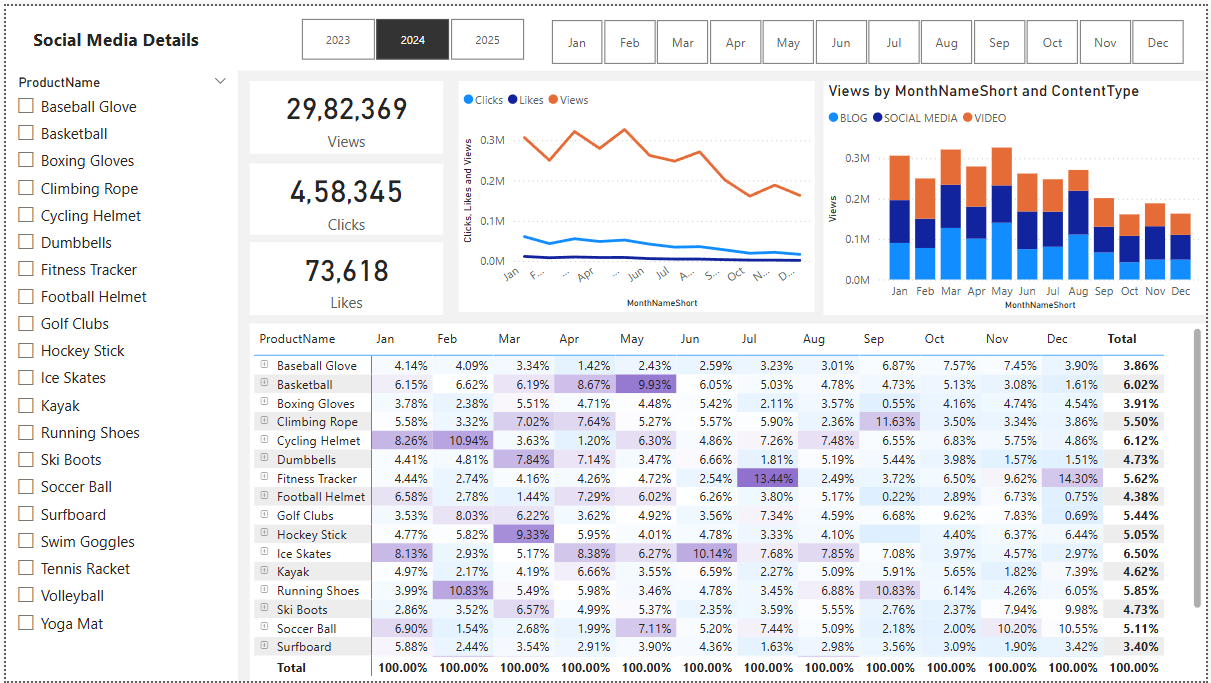

What the dashboard file says about the page in this screenshot:
{"tool":"powerbi","page":{"name":"Social Media Details","canvas":[1280,720],"ordinal":2},"visuals":[{"type":"textbox","box":[0,0,1280.3,68.6],"z":0},{"type":"slicer","fields":{"Values":["dim_products.ProductName"]},"box":[0,68.4,247.5,651.8],"z":1000},{"type":"card","fields":{"Values":["_Calculations.Views"]},"box":[260,80,206.7,77.3],"z":2000},{"type":"card","fields":{"Values":["_Calculations.Clicks"]},"box":[260,168,206.7,76],"z":3000},{"type":"card","fields":{"Values":["_Calculations.Likes"]},"box":[260,252,206.7,77.3],"z":4000},{"type":"slicer","fields":{"Values":["Calender.Year"]},"box":[289.8,6.2,287.4,57.2],"z":5000},{"type":"slicer","fields":{"Values":["Calender.MonthNameShort"]},"box":[556,7.5,724,61],"z":6000},{"type":"lineChart","fields":{"Y":["_Calculations.Clicks","_Calculations.Likes","_Calculations.Views"],"Category":["Calender.MonthNameShort"]},"box":[482.7,80,380,246.7],"z":7000},{"type":"columnChart","fields":{"Category":["Calender.MonthNameShort"],"Y":["_Calculations.Views"],"Series":["fact_engagement_data.ContentType"]},"box":[872,80,408,249.3],"z":8000},{"type":"pivotTable","fields":{"Rows":["dim_products.ProductName","fact_engagement_data.ContentType"],"Columns":["Calender.MonthNameShort"],"Values":["_Calculations.Views"]},"box":[260,338.7,1020,381.3],"z":9000}]}

Visuals, with their boxes in screenshot pixels (x1, y1, x2, y2), scaled from the page's 1280x720 canvas onto the 1211x683 screenshot:
textbox: {"x1": 0, "y1": 0, "x2": 1210, "y2": 65}
slicer - dim_products.ProductName: {"x1": 0, "y1": 65, "x2": 234, "y2": 682}
card - _Calculations.Views: {"x1": 246, "y1": 76, "x2": 442, "y2": 149}
card - _Calculations.Clicks: {"x1": 246, "y1": 159, "x2": 442, "y2": 231}
card - _Calculations.Likes: {"x1": 246, "y1": 239, "x2": 442, "y2": 312}
slicer - Calender.Year: {"x1": 274, "y1": 6, "x2": 546, "y2": 60}
slicer - Calender.MonthNameShort: {"x1": 526, "y1": 7, "x2": 1210, "y2": 65}
lineChart - _Calculations.Clicks x _Calculations.Likes: {"x1": 457, "y1": 76, "x2": 816, "y2": 310}
columnChart - Calender.MonthNameShort x _Calculations.Views: {"x1": 825, "y1": 76, "x2": 1210, "y2": 312}
pivotTable - dim_products.ProductName x fact_engagement_data.ContentType: {"x1": 246, "y1": 321, "x2": 1210, "y2": 682}
